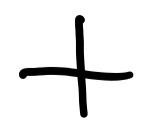plus: (17, 13, 133, 117)
